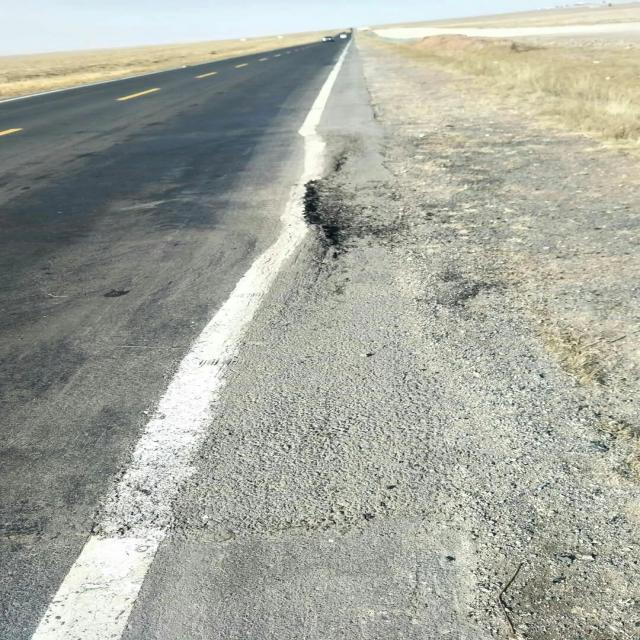pothole: (285, 137, 412, 303)
